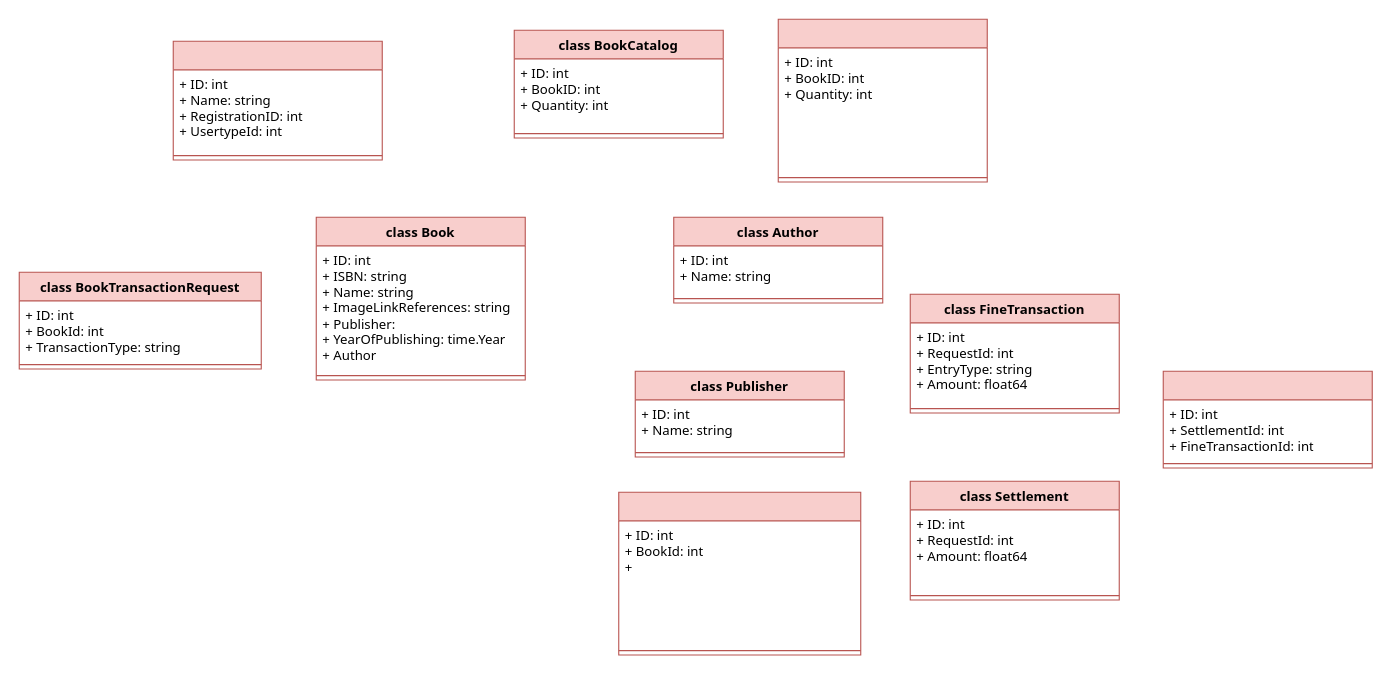
Image size: 1392x674. Some labels were removed from this diagram. The box of each missing label's shape, as (x1, y1, x2, y2) in pixels:
class Accrual: (1162, 370, 1372, 468)
class BookSubmissionRequest: (618, 491, 861, 655)
class SKU: (777, 18, 987, 182)
class User: (172, 40, 382, 160)
